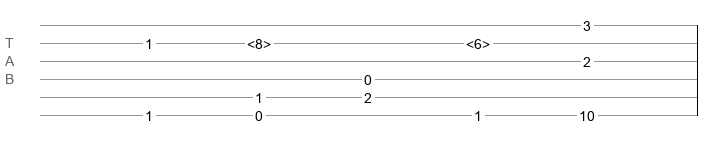0: (255, 108, 263, 118), (364, 72, 372, 82)
1: (145, 36, 153, 46), (145, 108, 153, 118), (255, 90, 263, 100), (474, 108, 482, 118)
10: (579, 108, 595, 118)
2: (364, 90, 372, 100), (583, 54, 591, 64)
3: (583, 18, 591, 28)
harmonic: (247, 36, 271, 46), (466, 36, 490, 46)
